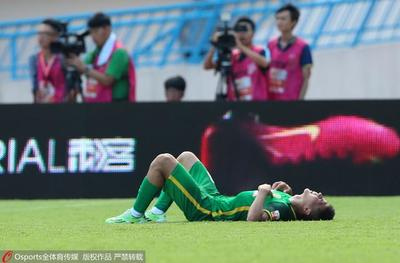fall: (104, 148, 341, 227)
